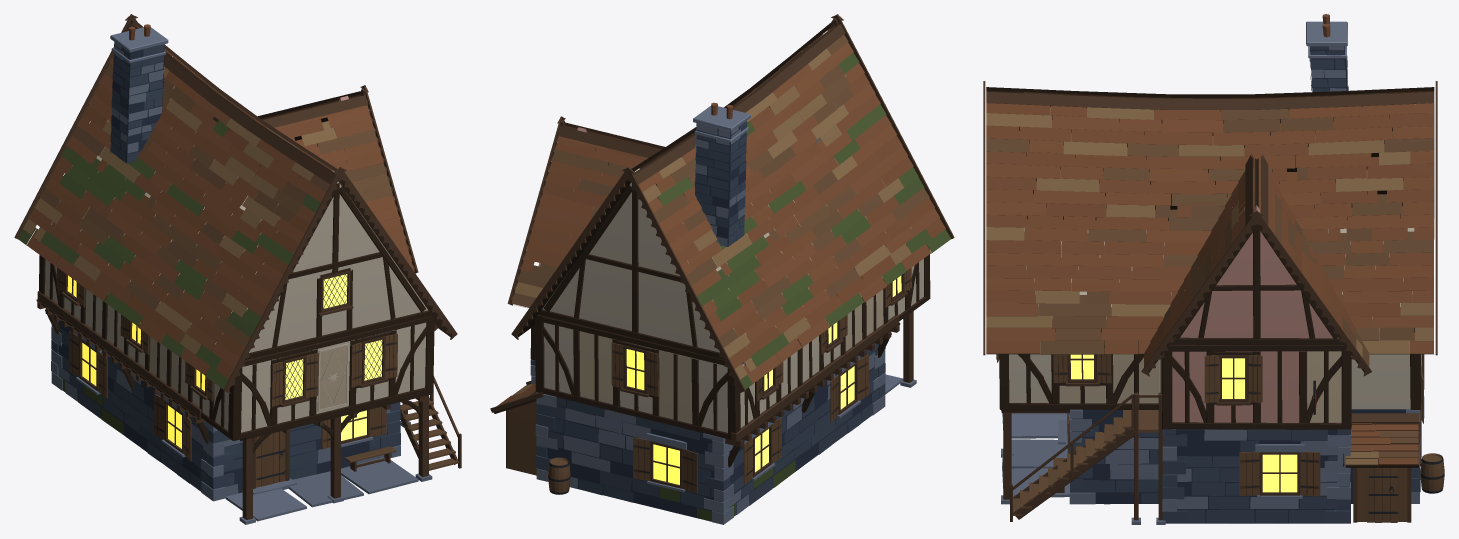
File: house_03.glb
3 renders of one model, left to right at view 1: azimuth 30°, elevation 25°; view 2: azimuth 150°, elevation 25°; view 3: azimuth 270°, elevation 25°, orthographic. The views are drawn at different scales.
Visible parts, largest first — view 1: isl_house_03; view 2: isl_house_03; view 3: isl_house_03.
Part boxes in pixels (box(x1,y1,x2,y2)): isl_house_03: box(14, 14, 461, 524); isl_house_03: box(490, 14, 954, 524); isl_house_03: box(983, 14, 1444, 524).
Size of the model in its own units: 8.78 by 11.69 by 11.95.
